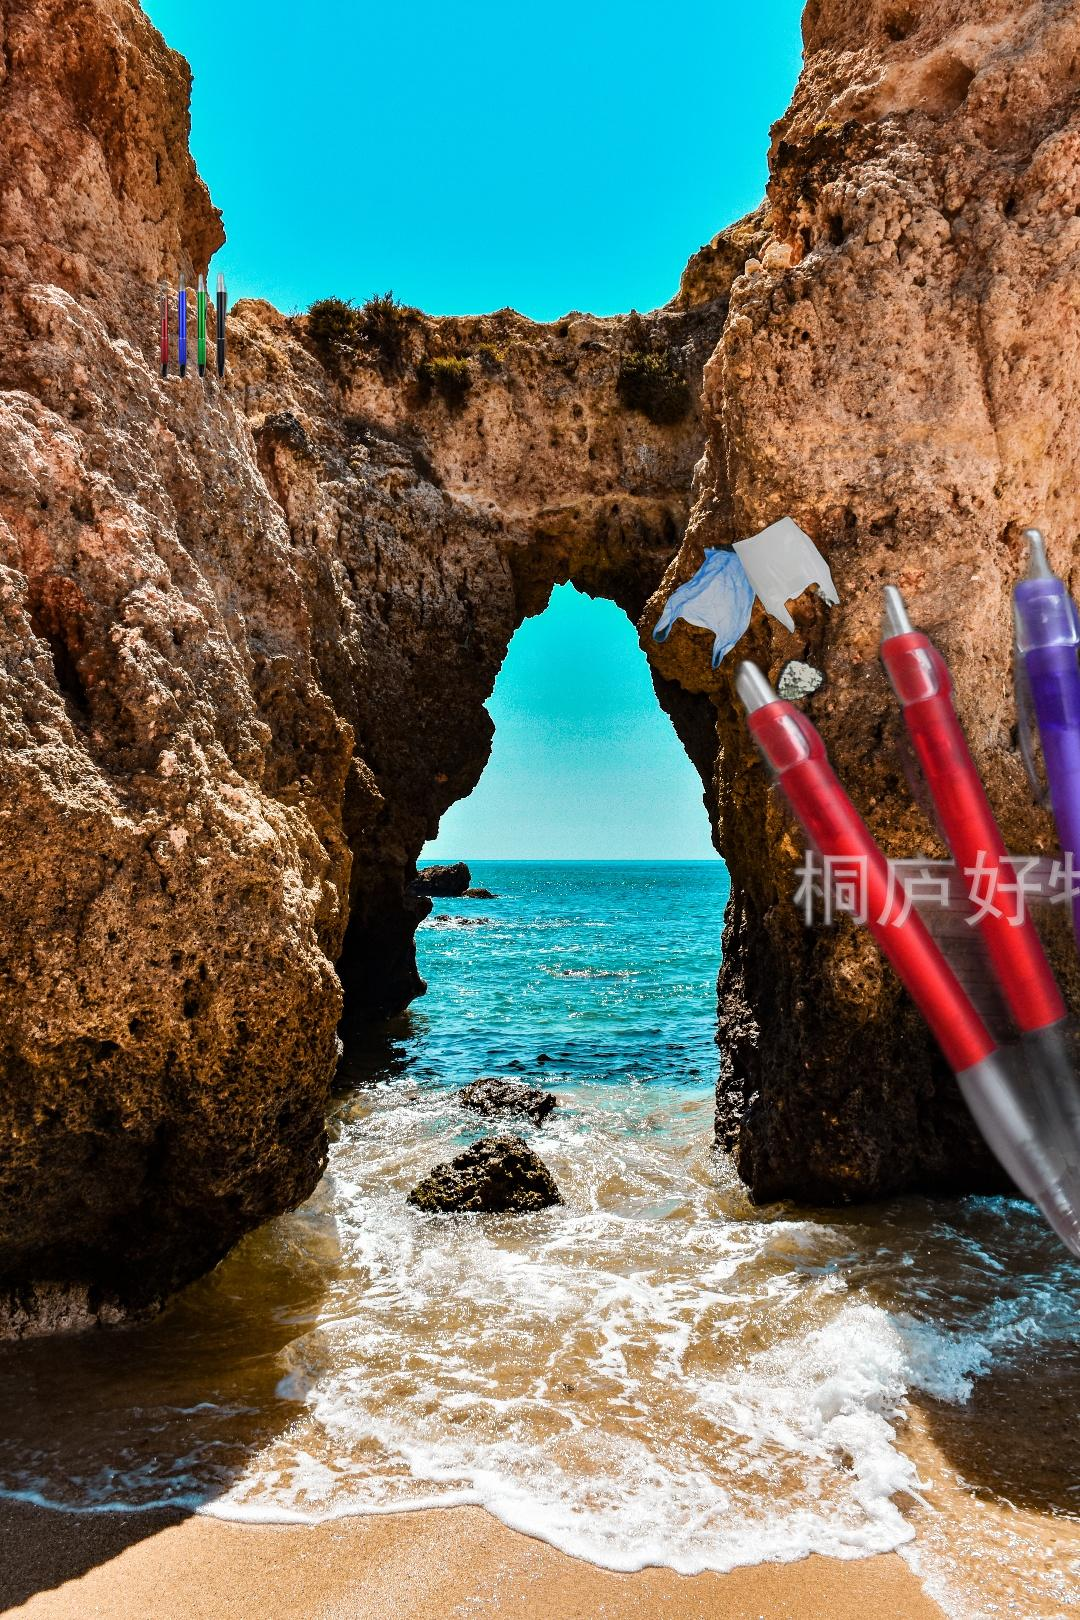penholder: (721, 507, 1080, 1377), (115, 264, 264, 410)
plastic-bag: (650, 513, 843, 703)
